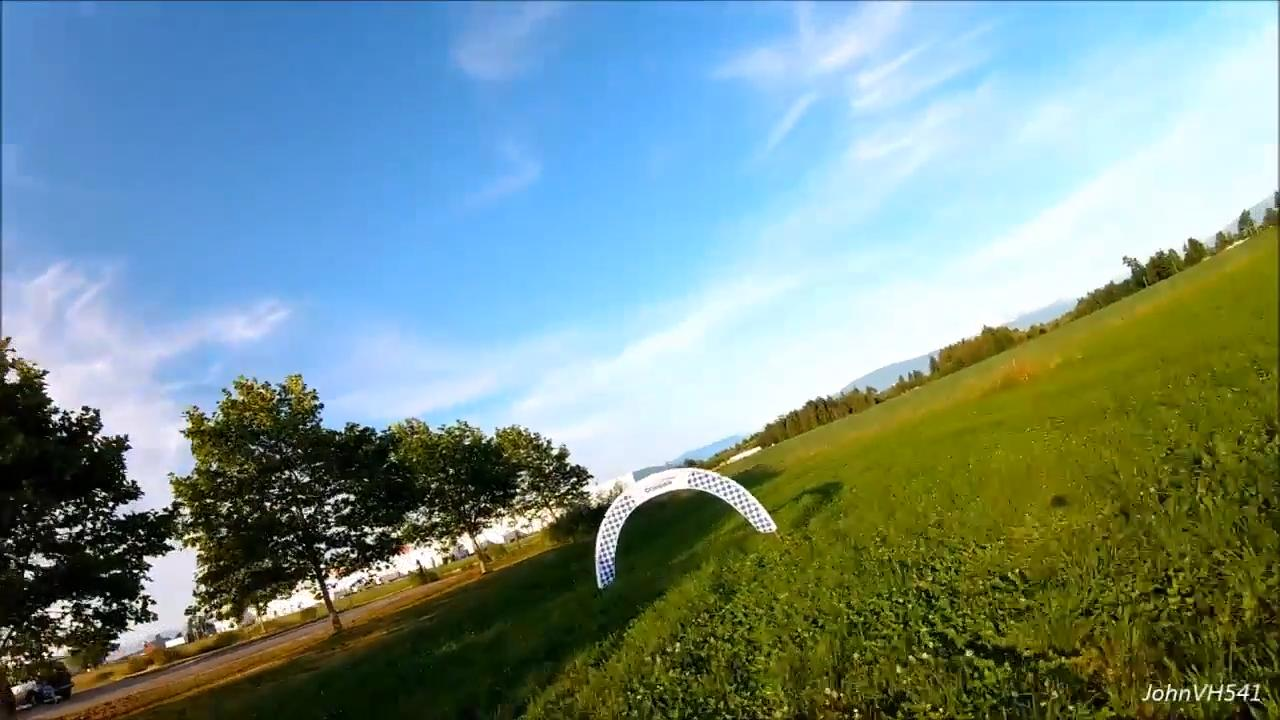gate: (593, 467, 777, 595)
